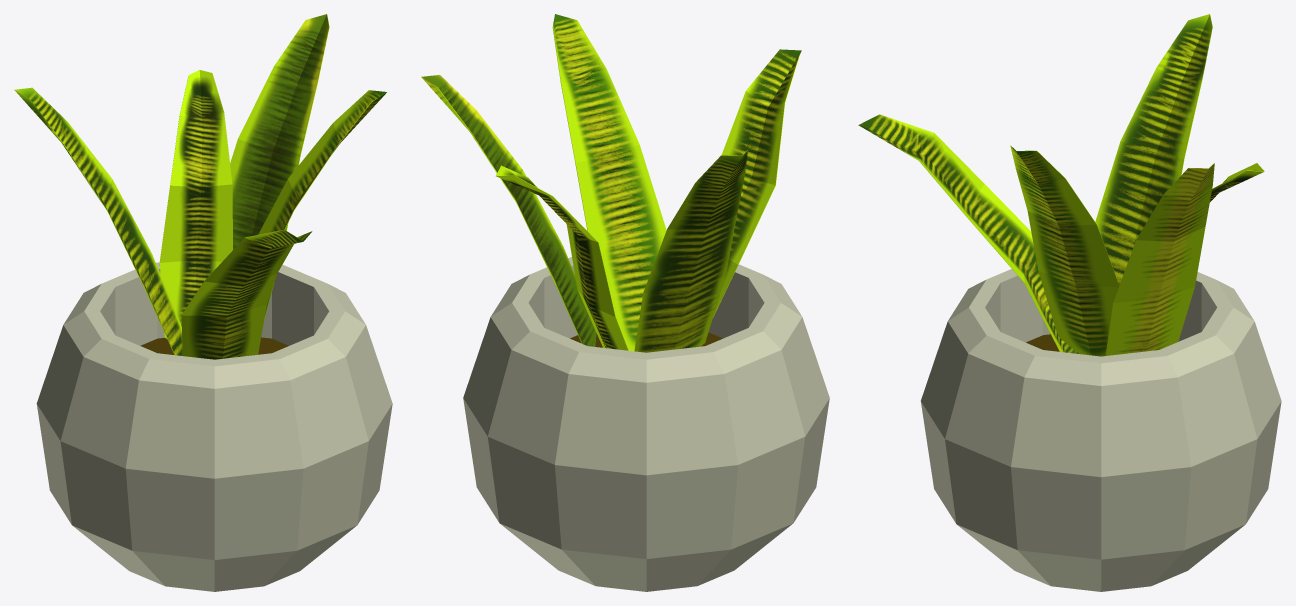
The model's file is Plant_Type_2_Colored.fbx.
3 views of the same model, side by side, from view 1: azimuth 30°, elevation 25°; view 2: azimuth 150°, elevation 25°; view 3: azimuth 270°, elevation 25° (orthographic). The views are drawn at different scales.
Visible parts, largest first — view 1: Container, leaves.002, leaves.003, leaves.001, leaves.004, leaves; view 2: Container, leaves, leaves.004, leaves.001, leaves.003, leaves.002; view 3: Container, leaves.004, leaves, leaves.003, leaves.001, leaves.002.
Part boxes in pixels (x1,y1,x2,y2): Container: (36,262,392,591); leaves.002: (159,70,232,338); leaves.003: (230,14,329,320); leaves.001: (181,229,312,359); leaves.004: (14,87,182,355); leaves: (258,90,386,234); Container: (463,257,829,591); leaves: (552,14,666,351); leaves.004: (634,150,747,352); leaves.001: (713,49,801,317); leaves.003: (421,75,596,346); leaves.002: (496,165,628,350); Container: (920,269,1281,591); leaves.004: (1095,14,1212,284); leaves: (1010,145,1119,356); leaves.003: (1105,163,1214,355); leaves.001: (858,114,1076,353); leaves.002: (1210,163,1264,201).
Bounding box in the file's own units: 252 × 344 × 284.
7 materials, 7 textured.
